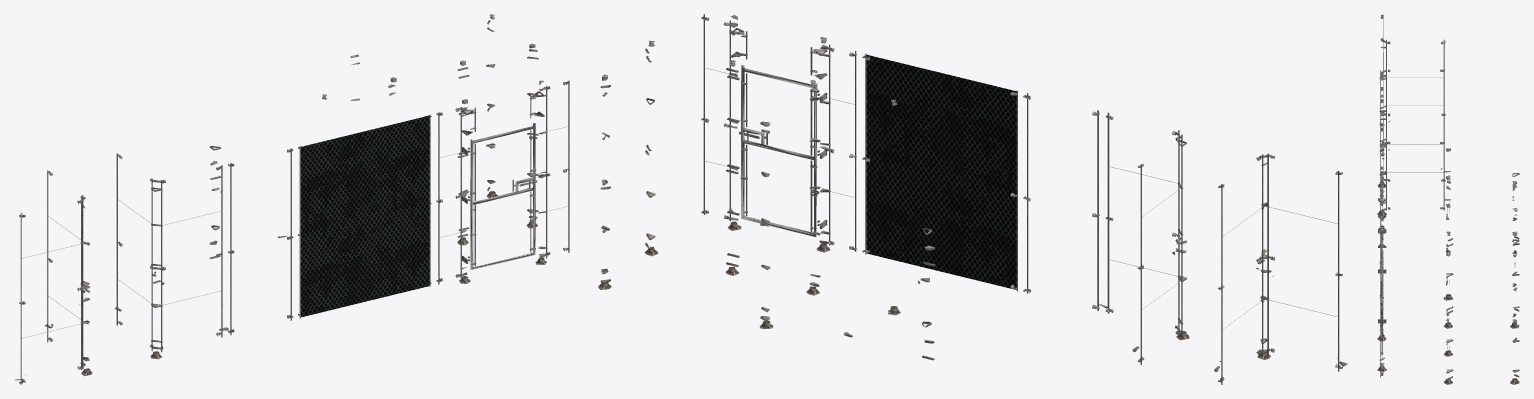
Rendered from chainlink_fence.glb.
3 views of the same model, side by side, from view 1: azimuth 30°, elevation 25°; view 2: azimuth 150°, elevation 25°; view 3: azimuth 270°, elevation 25° (orthographic). The views are drawn at different scales.
Parts seen in each view (by area): view 1: modular_chainlink_fence_double, modular_chainlink_fence_door_frame, modular_chainlink_fence_door_gate, modular_chainlink_fence_corner_outer, modular_chainlink_fence_corner_inner, modular_chainlink_fence; view 2: modular_chainlink_fence_double, modular_chainlink_fence_door_frame, modular_chainlink_fence_door_gate, modular_chainlink_fence_corner_outer, modular_chainlink_fence_corner_inner, modular_chainlink_fence; view 3: modular_chainlink_fence_corner_outer, modular_chainlink_fence_door_frame, modular_chainlink_fence_corner_inner, modular_chainlink_fence_door_gate, modular_chainlink_fence_start_01_corner_02, modular_chainlink_fence_start_01_corner_01, modular_chainlink_fence_end_01, modular_chainlink_fence_end_02, modular_chainlink_post_middle.
Part boxes in pixels (x1,y1,x2,y2): modular_chainlink_fence_double: (298, 114, 431, 318); modular_chainlink_fence_door_frame: (436, 80, 569, 284); modular_chainlink_fence_door_gate: (470, 123, 536, 270); modular_chainlink_fence_corner_outer: (114, 153, 228, 359); modular_chainlink_fence_corner_inner: (14, 170, 92, 384); modular_chainlink_fence: (228, 148, 293, 335); modular_chainlink_fence_double: (862, 53, 1017, 291); modular_chainlink_fence_door_frame: (701, 14, 856, 252); modular_chainlink_fence_door_gate: (740, 65, 817, 236); modular_chainlink_fence_corner_outer: (1098, 112, 1189, 364); modular_chainlink_fence_corner_inner: (1214, 153, 1348, 384); modular_chainlink_fence: (1023, 93, 1099, 310); modular_chainlink_fence_corner_outer: (1377, 67, 1450, 234); modular_chainlink_fence_door_frame: (1377, 182, 1386, 377); modular_chainlink_fence_corner_inner: (1377, 14, 1450, 188); modular_chainlink_fence_door_gate: (1381, 237, 1383, 358); modular_chainlink_fence_start_01_corner_02: (1510, 231, 1519, 384); modular_chainlink_fence_start_01_corner_01: (1443, 231, 1453, 384); modular_chainlink_fence_end_01: (1443, 175, 1452, 328); modular_chainlink_fence_end_02: (1510, 181, 1519, 328); modular_chainlink_post_middle: (1443, 203, 1452, 356).
Size of the model in its own units: 8.11 by 2.5 by 2.15.
Materials: 2 (2 with a texture image).
